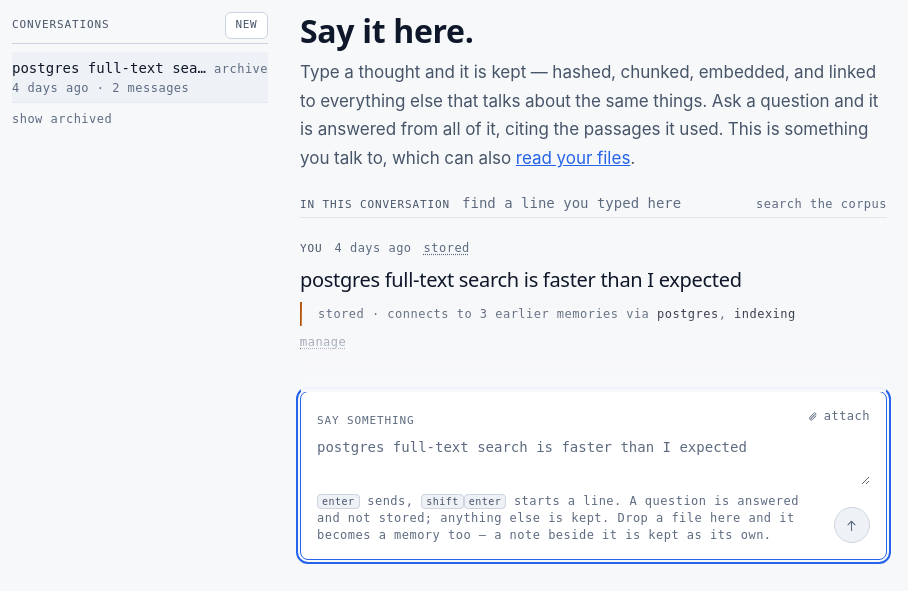
Test case: sessions › a new conversation creates nothing until something is typed
Click the button "new" at (246, 25), box [225, 12, 268, 38]
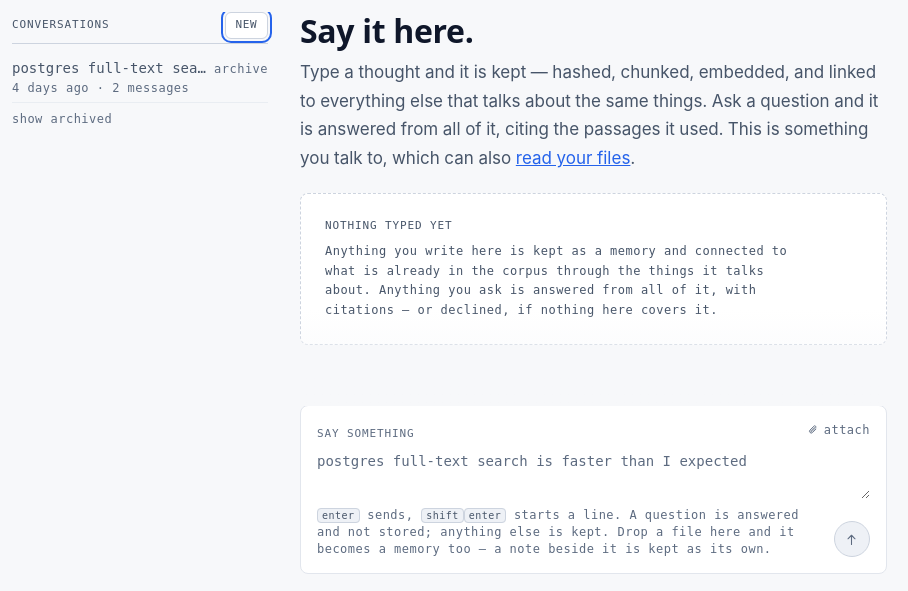
Expected: the text "Nothing typed yet" is shown, [325, 219, 452, 232]
